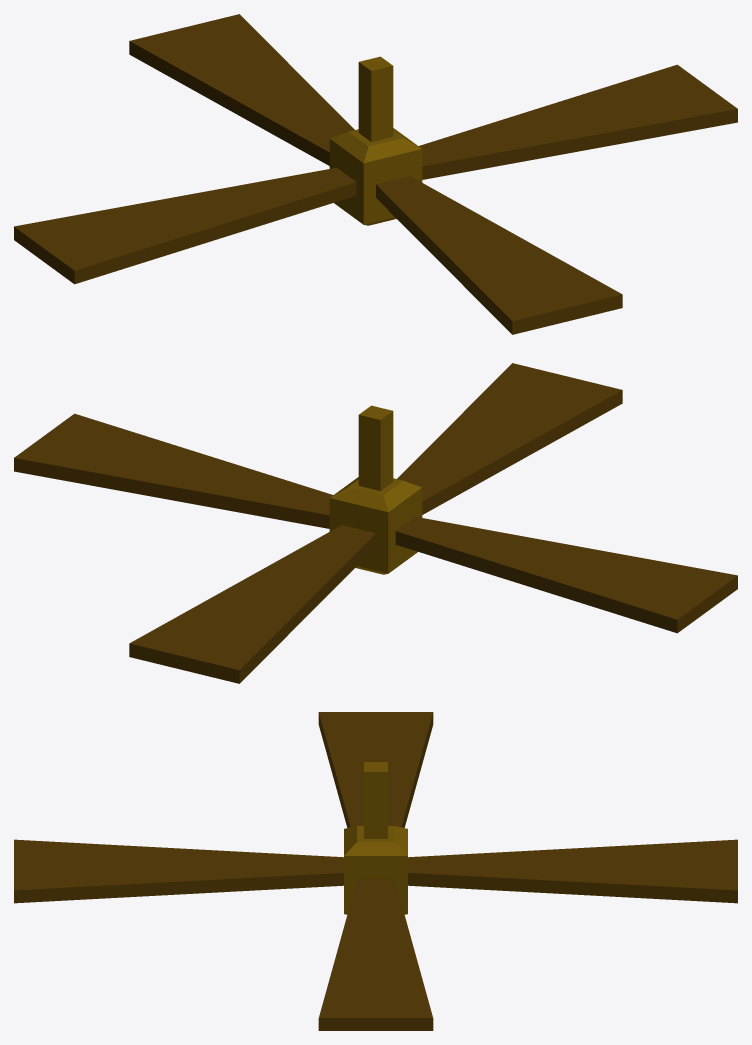
File: Ventilador.fbx
The picture shows the model from 3 angles, top to bottom: view 1: azimuth 30°, elevation 25°; view 2: azimuth 150°, elevation 25°; view 3: azimuth 270°, elevation 25°; orthographic projection. The views are drawn at different scales.
Parts seen in each view (by area): view 1: pCube2; view 2: pCube2; view 3: pCube2.
Part boxes in pixels (x1,y1,x2,y2): pCube2: (14,14,737,334); pCube2: (14,363,737,683); pCube2: (14,712,737,1030).
Bounding box in the file's own units: 1.96 × 0.4248 × 1.96.
